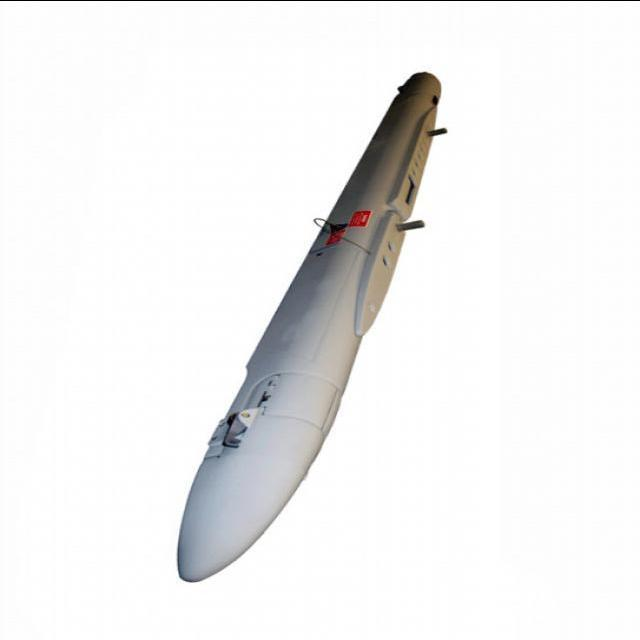missile: (156, 63, 471, 582)
